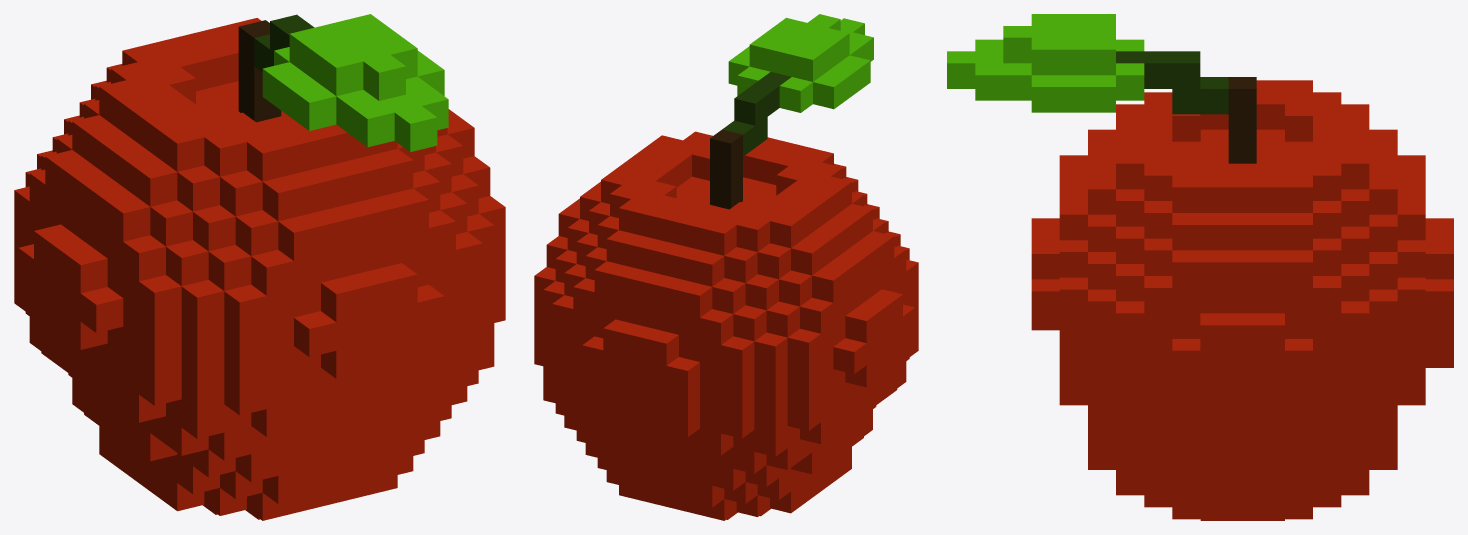
Rendered from Apple.fbx.
3 views of the same model, side by side, from view 1: azimuth 30°, elevation 25°; view 2: azimuth 150°, elevation 25°; view 3: azimuth 270°, elevation 25° (orthographic). The views are drawn at different scales.
Visible parts, largest first — view 1: Untitled; view 2: Untitled; view 3: Untitled.
Part boxes in pixels (x1,y1,x2,y2): Untitled: [14, 14, 505, 520]; Untitled: [534, 14, 918, 520]; Untitled: [947, 14, 1453, 520].
Size of the model in its own units: 150 by 180 by 180.
